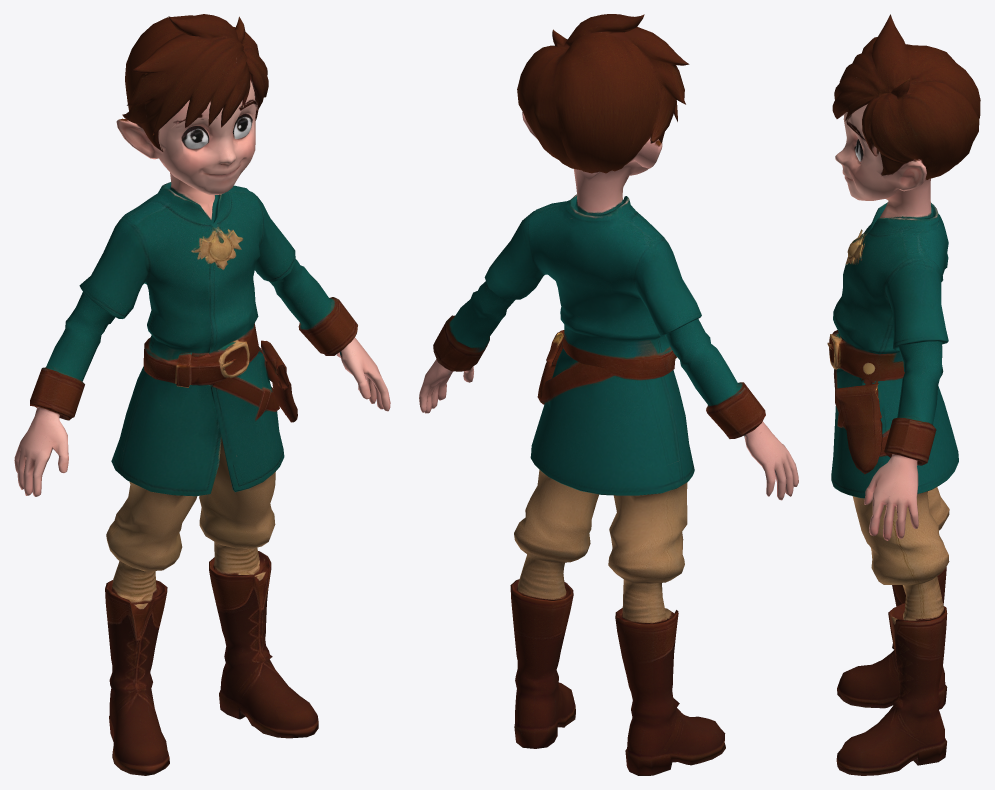
Rendered from joshua.glb.
3 renders of one model, left to right at view 1: azimuth 30°, elevation 25°; view 2: azimuth 150°, elevation 25°; view 3: azimuth 270°, elevation 25°, orthographic. The views are drawn at different scales.
Size of the model in its own units: 0.4927 by 0.9512 by 0.1885.
Materials: 1 (1 with a texture image).
